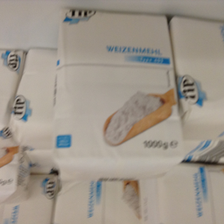flour: (55, 9, 185, 175)
